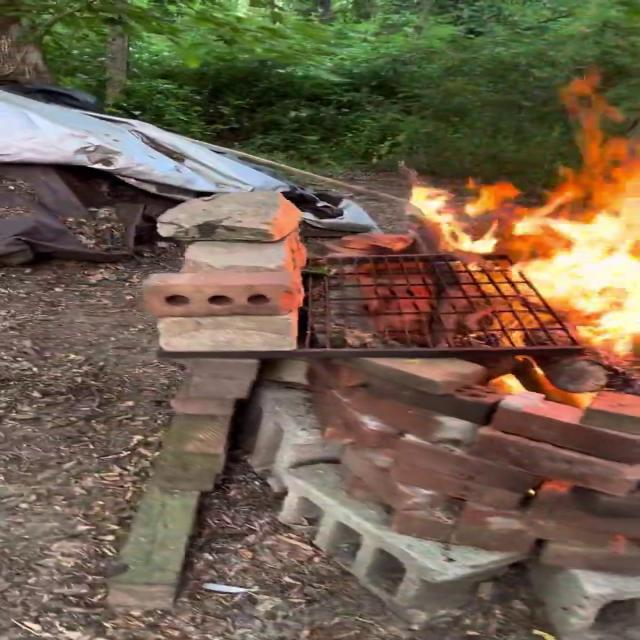Fire: (394, 69, 640, 352)
